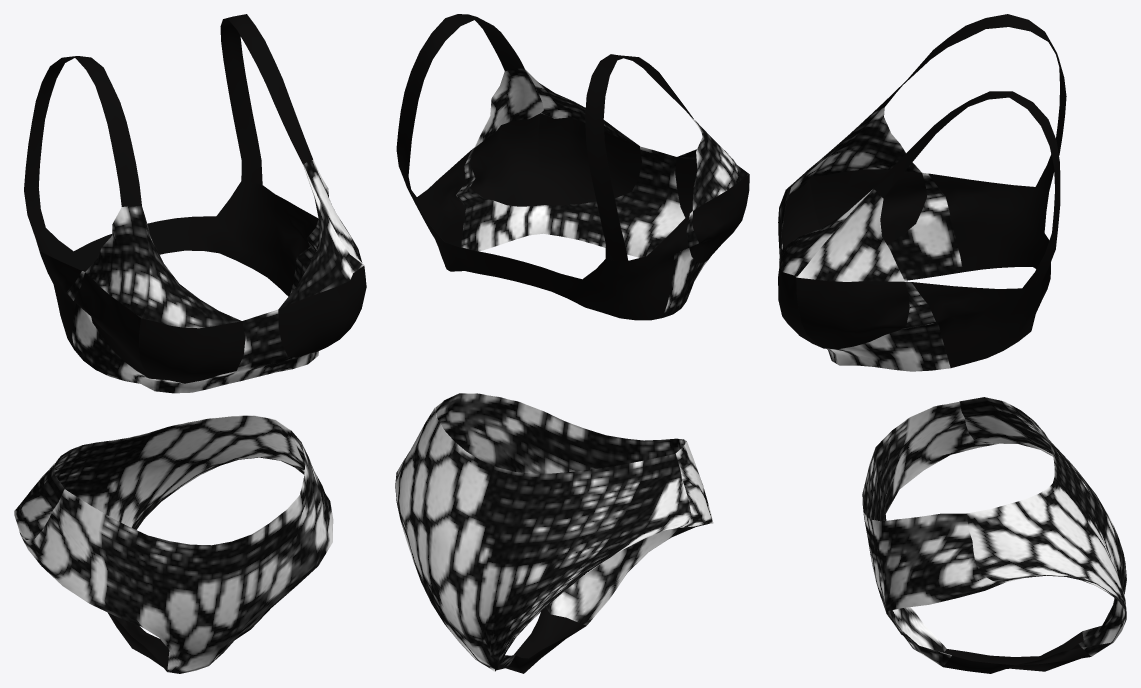
The model's file is intCompleto.obj.
3 renders of one model, left to right at view 1: azimuth 30°, elevation 25°; view 2: azimuth 150°, elevation 25°; view 3: azimuth 270°, elevation 25°, orthographic.
Bounding box in the file's own units: 346 × 718 × 365.
Materials: 2 (1 with a texture image).
